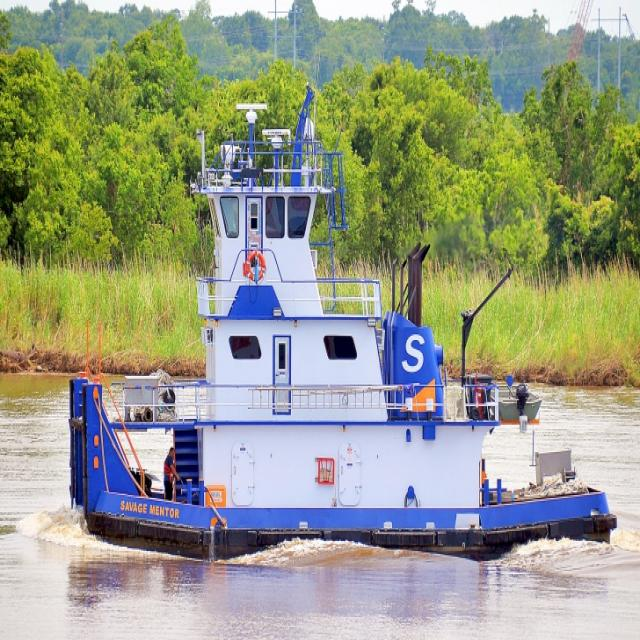tugboat: (67, 82, 623, 583)
